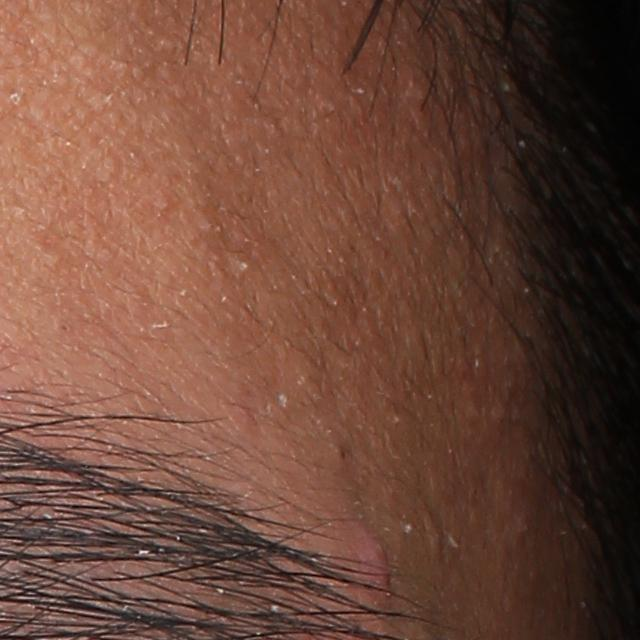papule: (352, 518, 393, 604)
